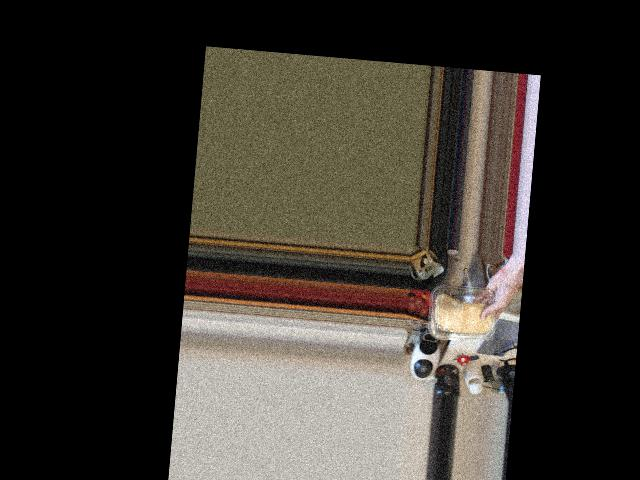cheese: (431, 280, 496, 349)
